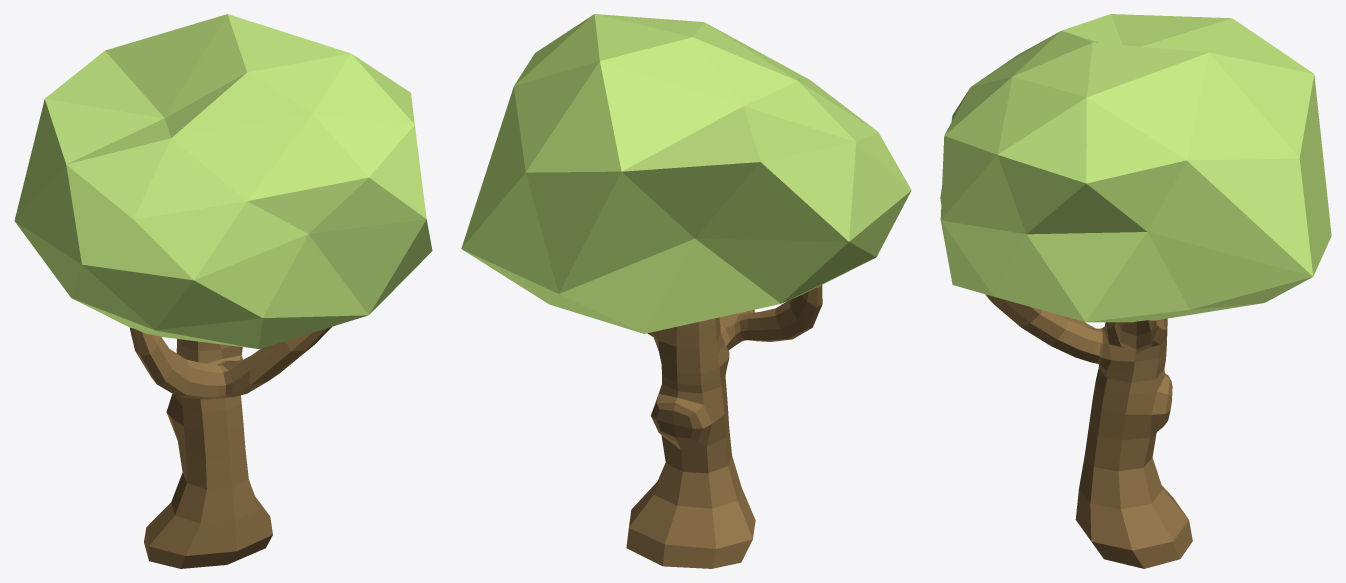
File: oaktree.fbx
3 renders of one model, left to right at view 1: azimuth 30°, elevation 25°; view 2: azimuth 150°, elevation 25°; view 3: azimuth 270°, elevation 25°, orthographic. The views are drawn at different scales.
Visible parts, largest first — view 1: Branches, Base; view 2: Branches, Base; view 3: Branches, Base.
Boxes of the visible parts, left/top/right/bottom form: Branches: left=14, top=14, right=432, bottom=348; Base: left=130, top=327, right=331, bottom=568; Branches: left=461, top=14, right=911, bottom=333; Base: left=626, top=285, right=822, bottom=568; Branches: left=940, top=14, right=1331, bottom=322; Base: left=985, top=294, right=1192, bottom=568.
Size of the model in its own units: 1211 by 1621 by 1097.
